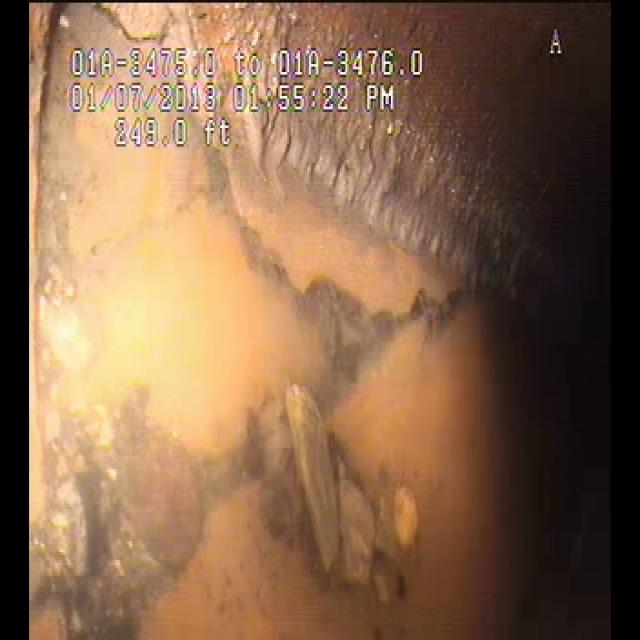Crack: (212, 174, 512, 438)
